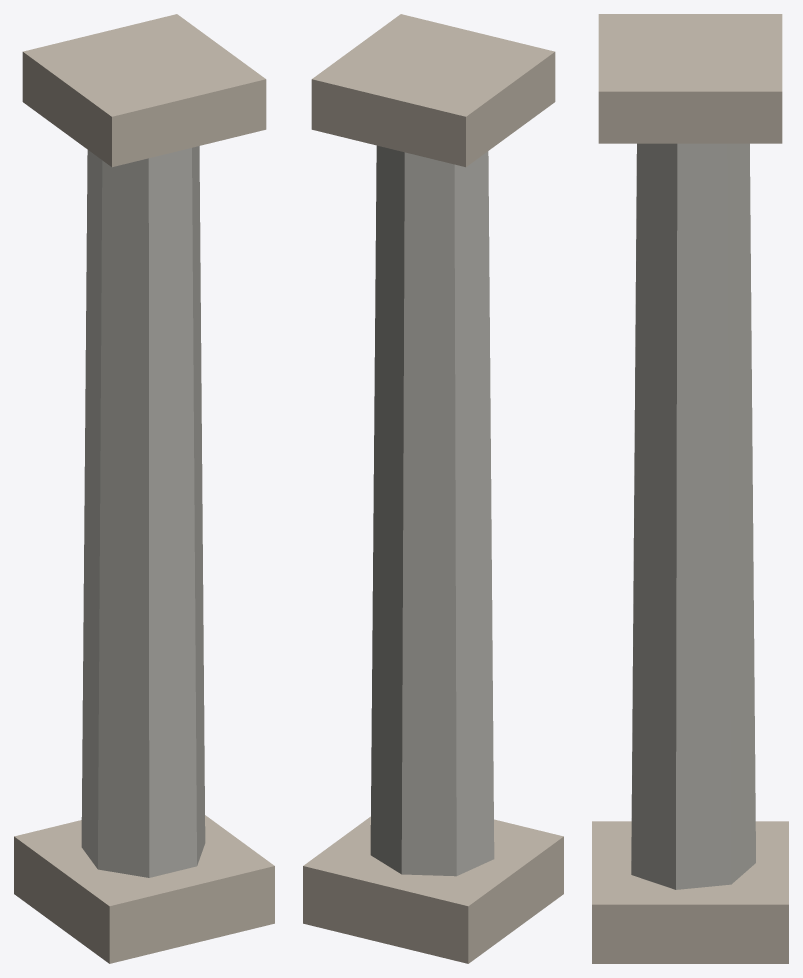
Rendered from column_v27.glb.
3 renders of one model, left to right at view 1: azimuth 30°, elevation 25°; view 2: azimuth 150°, elevation 25°; view 3: azimuth 270°, elevation 25°, orthographic. The views are drawn at different scales.
Visible parts, largest first — view 1: lod0; view 2: lod0; view 3: lod0.
Boxes of the visible parts, x1,y1,x2,y2 form: lod0: [14, 14, 274, 963]; lod0: [303, 14, 563, 963]; lod0: [592, 14, 788, 963].
Size of what is drawn, in the model's own units: 0.48 by 2.34 by 0.48.
